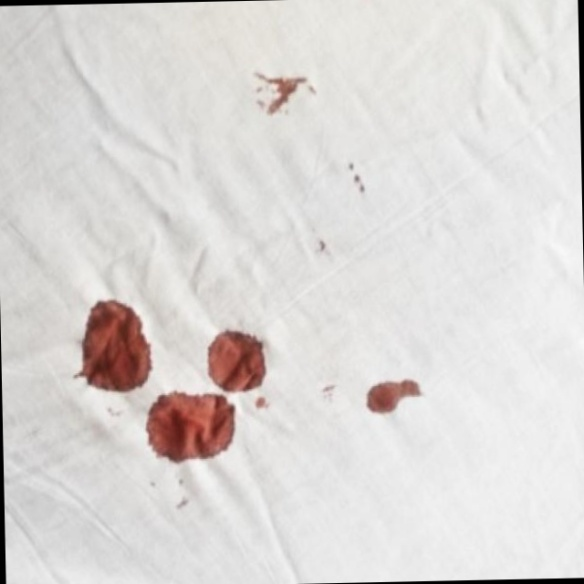blood: (76, 298, 157, 395), (143, 391, 242, 467), (207, 326, 269, 399), (360, 368, 428, 420)
